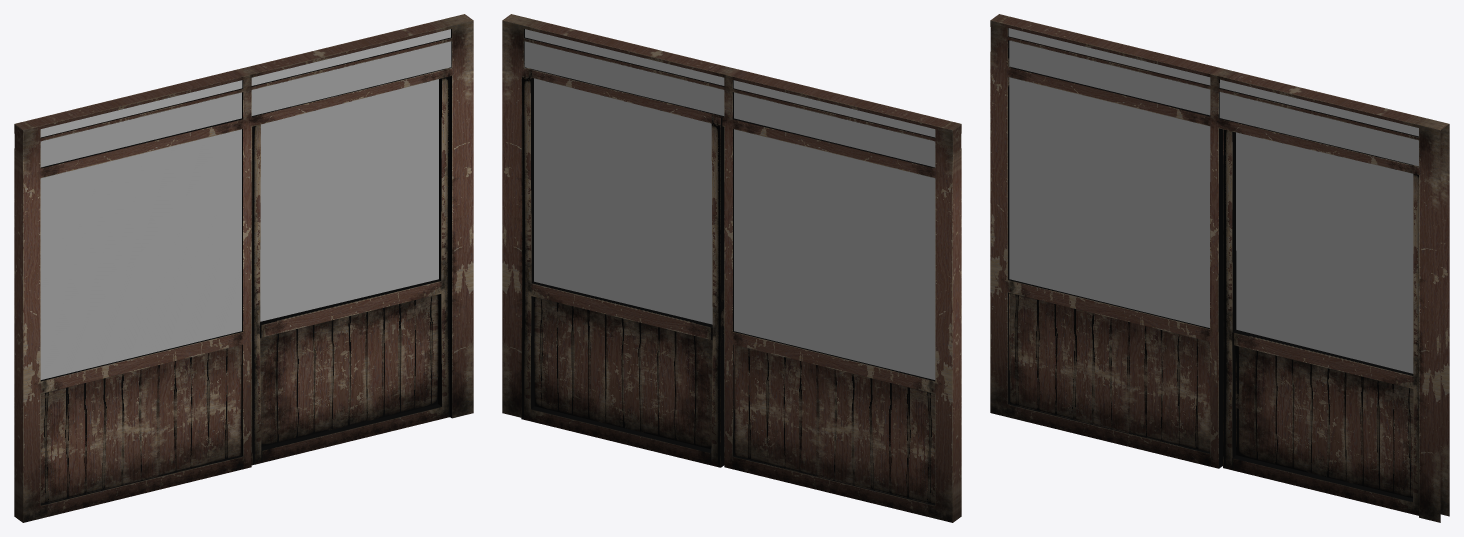
File: Door_Fix.fbx
3 renders of one model, left to right at view 1: azimuth 30°, elevation 25°; view 2: azimuth 150°, elevation 25°; view 3: azimuth 330°, elevation 25°, orthographic.
Visible parts, largest first — view 1: pCube66, pCube74.002; view 2: pCube66, pCube74.002; view 3: pCube66, pCube74.002.
Part boxes in pixels (box(x1,y1,x2,y2)): pCube66: box(14, 14, 473, 522); pCube74.002: box(251, 76, 449, 465); pCube66: box(502, 14, 961, 522); pCube74.002: box(521, 69, 724, 467); pCube66: box(990, 14, 1449, 522); pCube74.002: box(1223, 129, 1418, 515).
Size of the model in its own units: 600 by 500 by 23.76.
